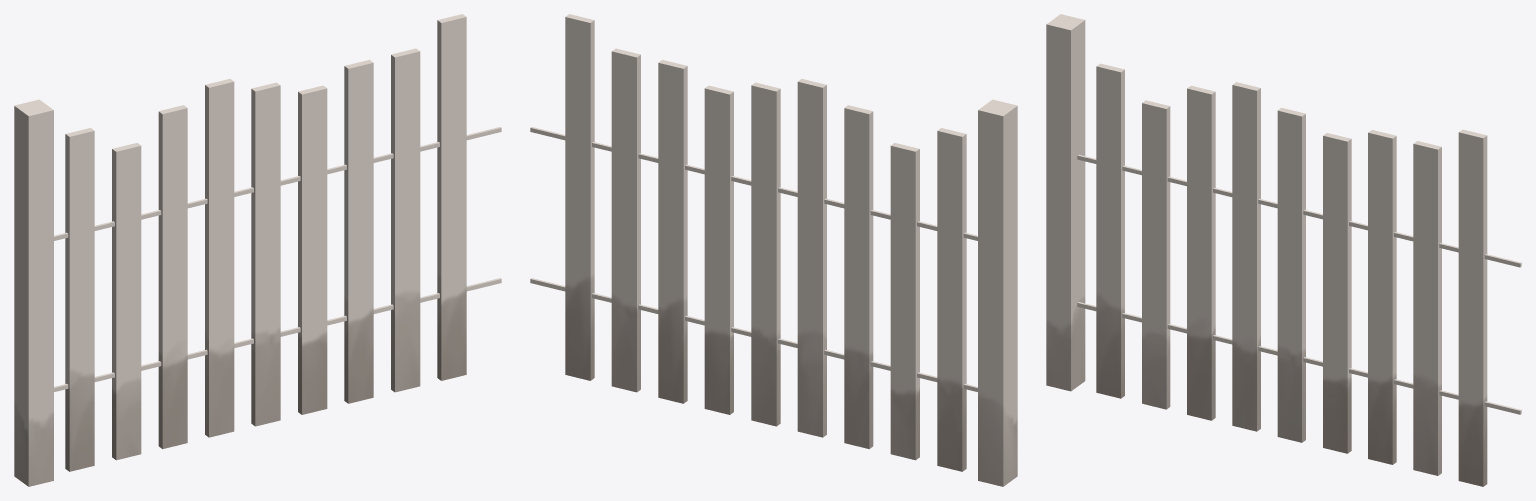
The model's file is SM_Fence.fbx.
3 views of the same model, side by side, from view 1: azimuth 30°, elevation 25°; view 2: azimuth 150°, elevation 25°; view 3: azimuth 330°, elevation 25° (orthographic). The views are drawn at different scales.
Parts seen in each view (by area): view 1: Fence; view 2: Fence; view 3: Fence.
Boxes of the visible parts, x1,y1,x2,y2 form: Fence: (14,14,501,486); Fence: (530,14,1017,486); Fence: (1046,14,1521,486).
Size of the model in its own units: 2.15 by 1.59 by 0.1134.
